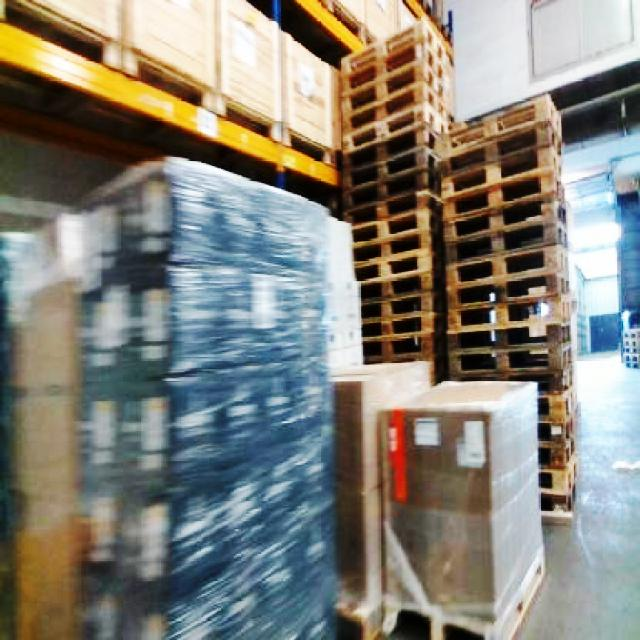ground: (0, 348, 638, 638), (368, 348, 638, 638)
pallet: (0, 152, 349, 638), (335, 12, 580, 515), (440, 92, 578, 514), (337, 17, 452, 377), (329, 357, 434, 638), (620, 326, 638, 369)
